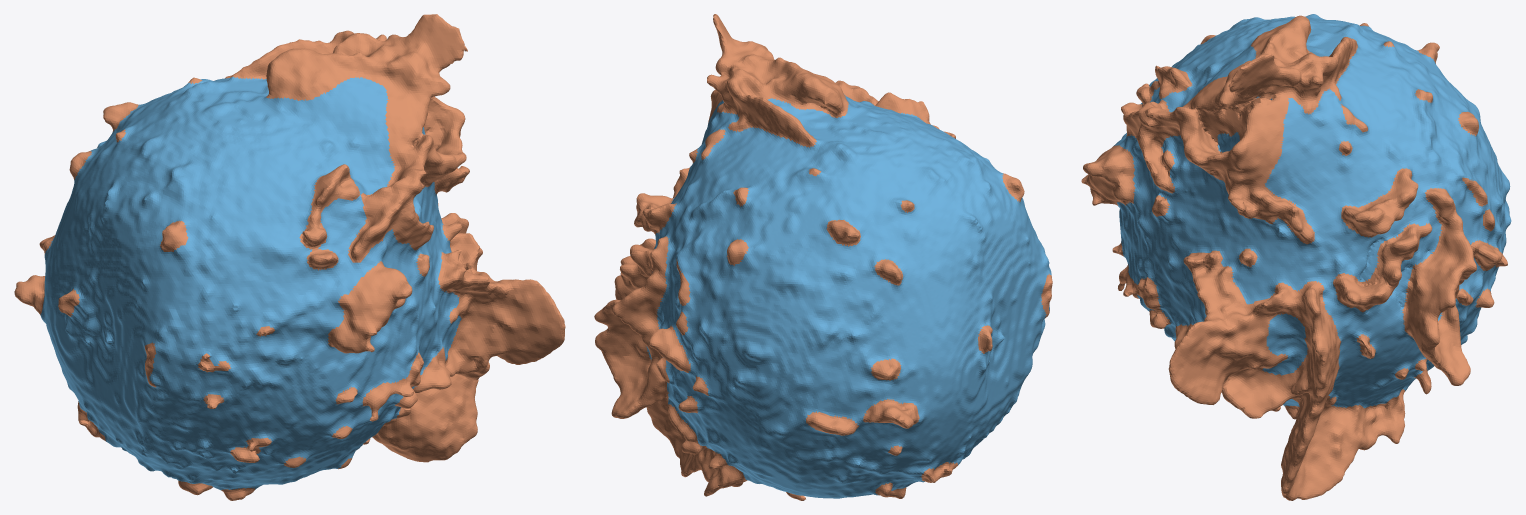
The picture shows the model from 3 angles, left to right: view 1: azimuth 30°, elevation 25°; view 2: azimuth 150°, elevation 25°; view 3: azimuth 270°, elevation 25°; orthographic projection. The views are drawn at different scales.
Size of the model in its own units: 167 by 179 by 158.
